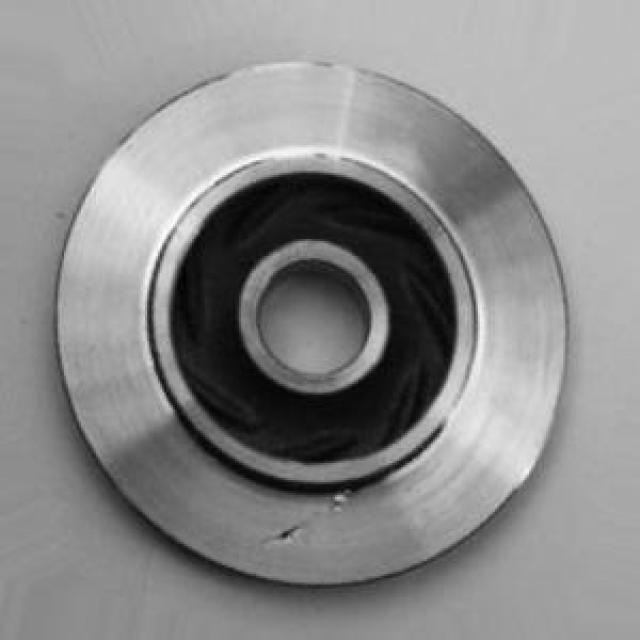Defect: (271, 519, 308, 548)
